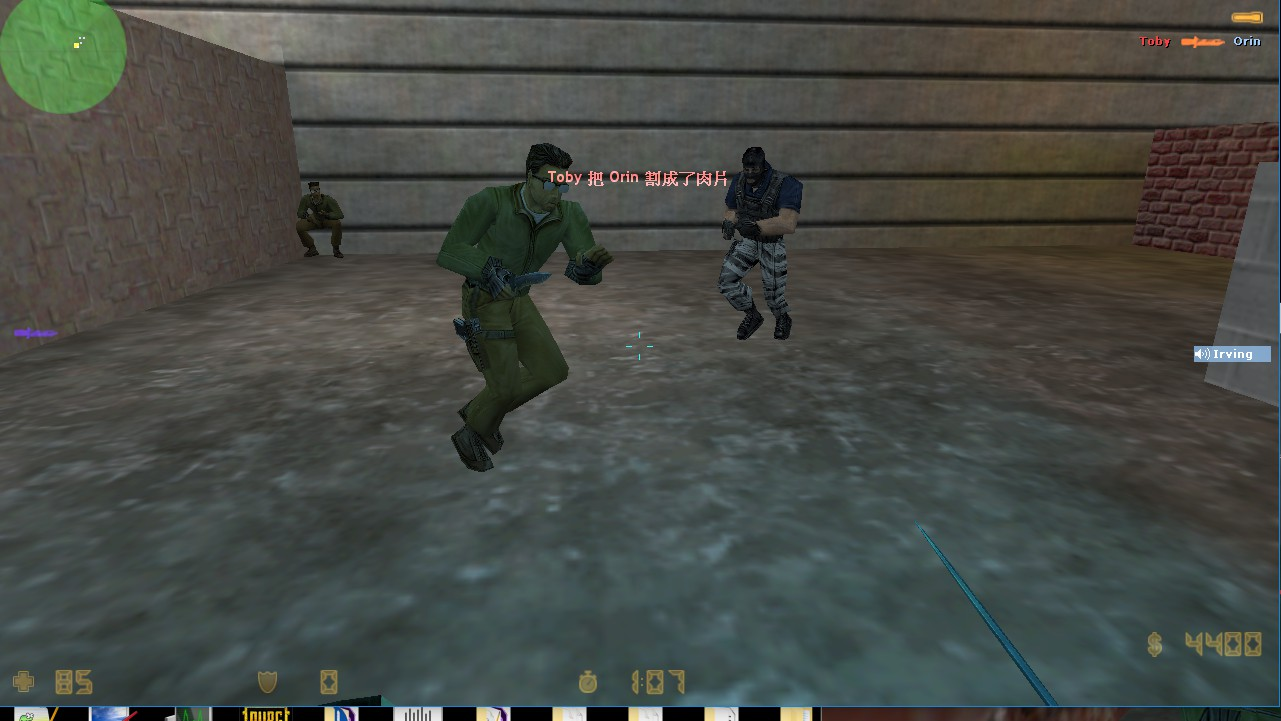person: (428, 124, 619, 500), (718, 144, 817, 350), (288, 176, 355, 267)
